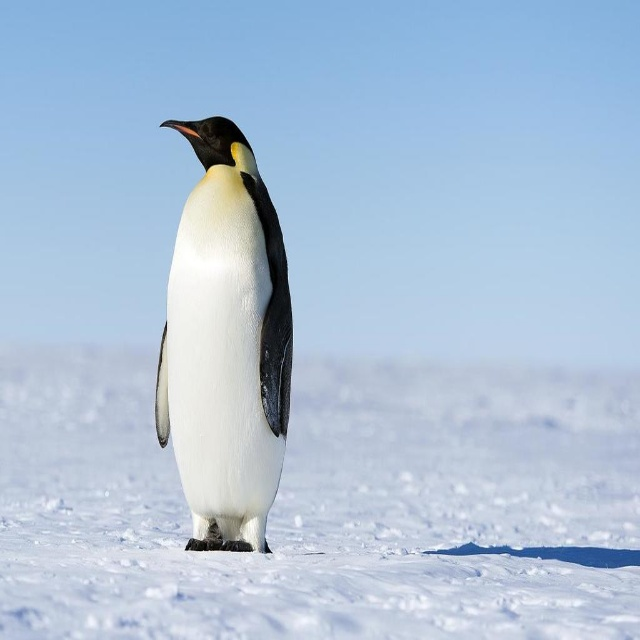Penguin: (149, 107, 300, 559)
